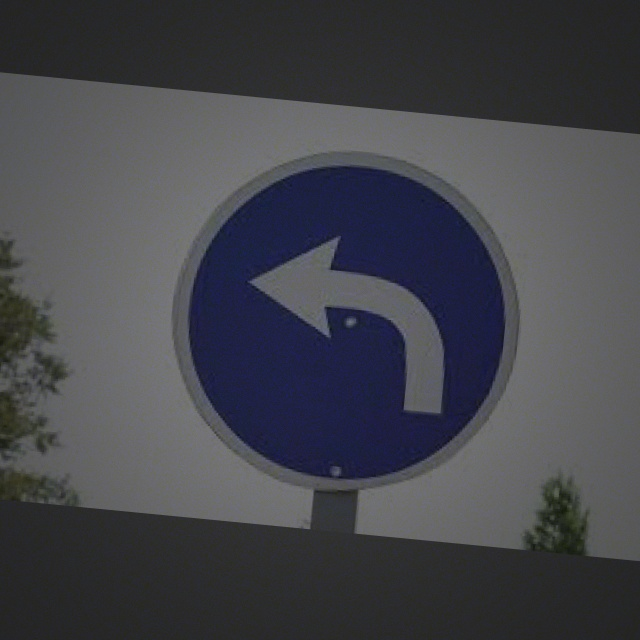Compulsory_Turn_Left_Ahead: (164, 133, 531, 504)
